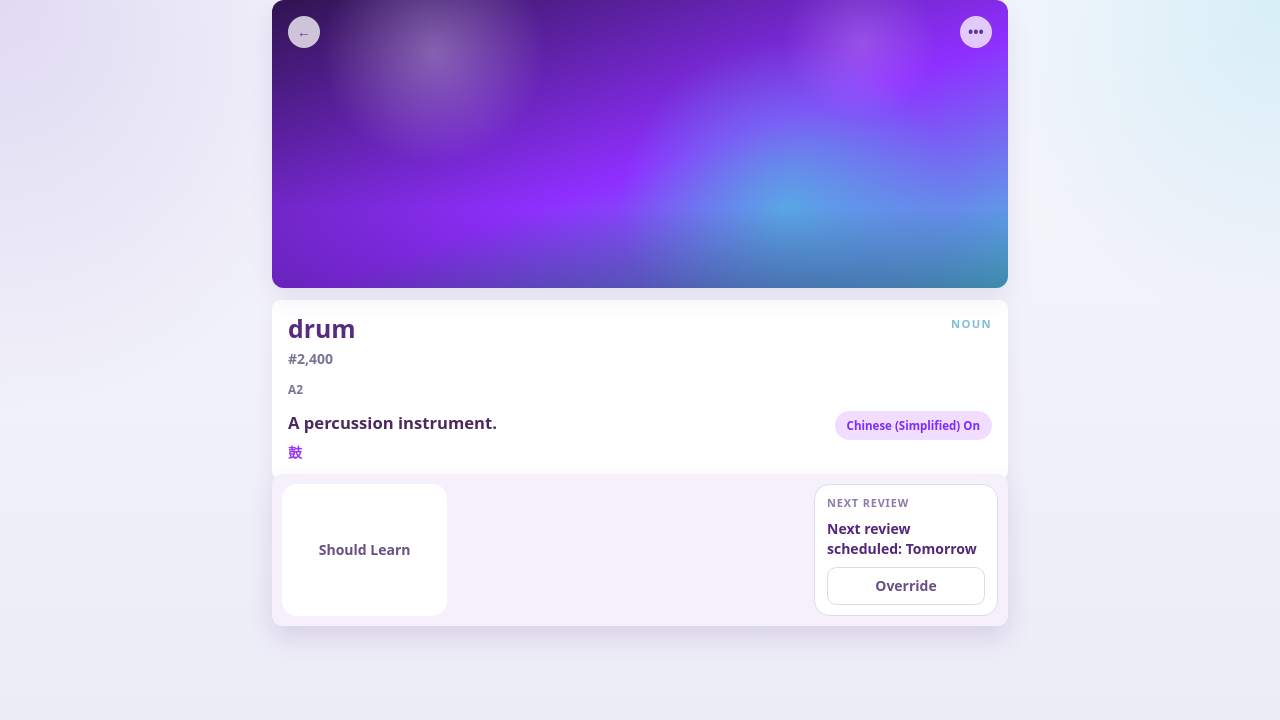
KnowledgeEntryDetailPage › clears next-review controls immediately when an entry is moved back to should learn
Expected: the text "Next Review" is shown, [827,495,909,510]
Step 1. Click the button "Should Learn" → (365, 550), box [282,484,447,616]
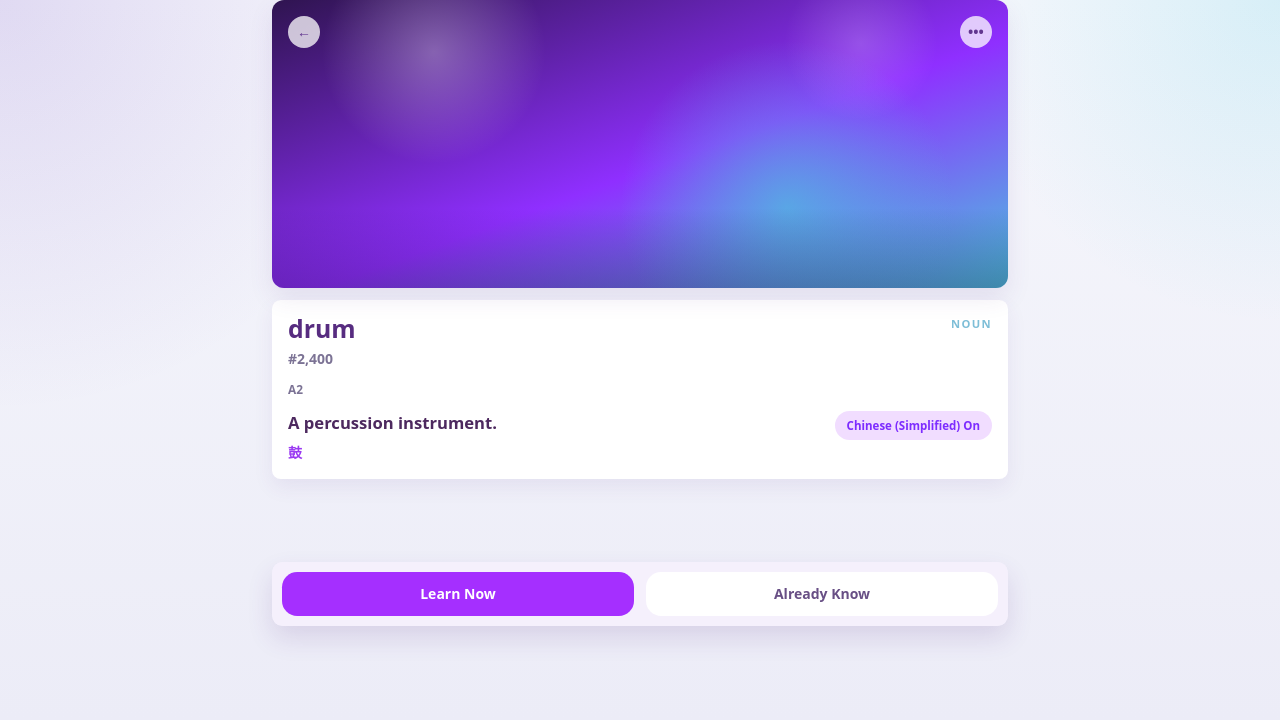
Now the text "Next Review" is gone
